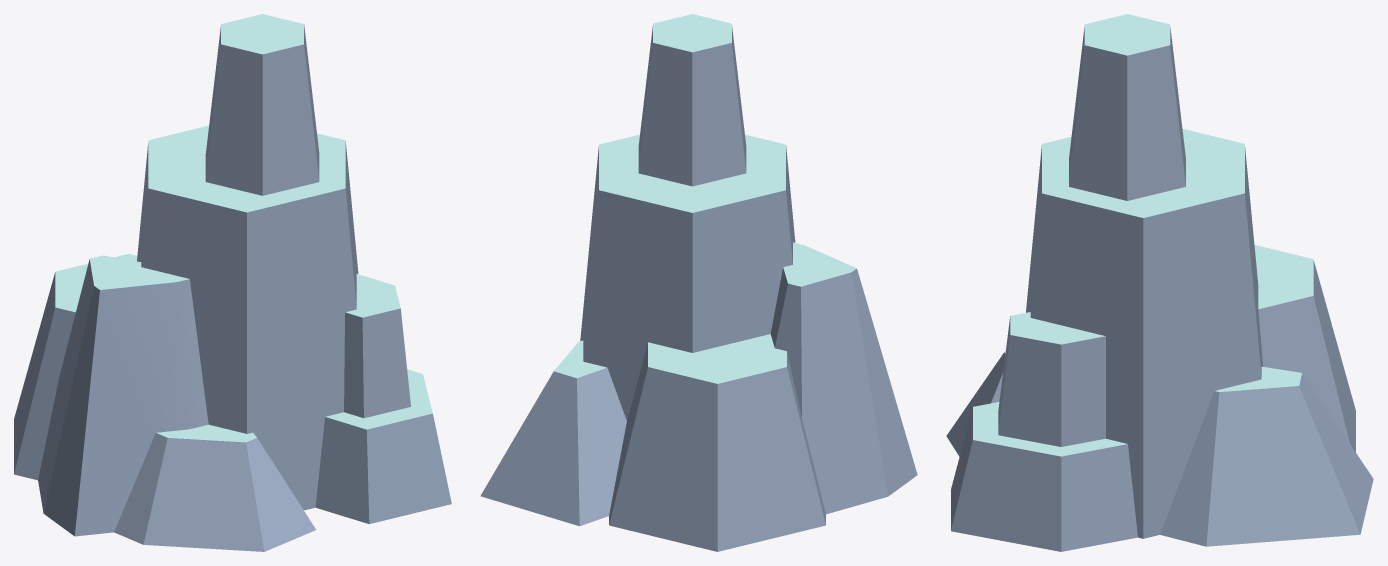
File: rockFormationMedium.obj
3 views of the same model, side by side, from view 1: azimuth 30°, elevation 25°; view 2: azimuth 150°, elevation 25°; view 3: azimuth 270°, elevation 25° (orthographic). The views are drawn at different scales.
Visible parts, largest first — view 1: rockFormationMedium; view 2: rockFormationMedium; view 3: rockFormationMedium.
Boxes of the visible parts, left/top/right/bottom form: rockFormationMedium: left=14, top=14, right=451, bottom=551; rockFormationMedium: left=480, top=14, right=917, bottom=551; rockFormationMedium: left=946, top=14, right=1373, bottom=551.
Bounding box in the file's own units: 0.7182 × 0.8299 × 0.7231.
